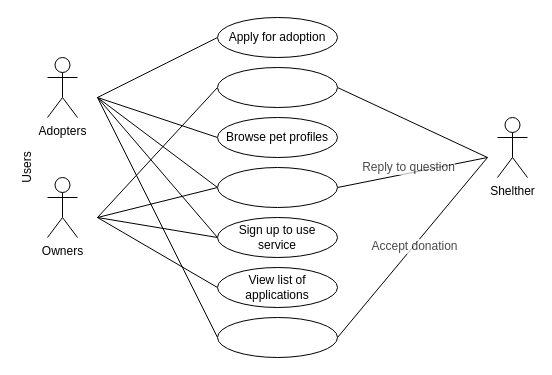
Image size: 552x375. Some labels were removed from this diagram. Each missing label, with the centre of its shape:
"Create pet profile for adoption" belongs at [277,87].
"Donate" belongs at [277,337].
"Submit question" belongs at [277,187].
